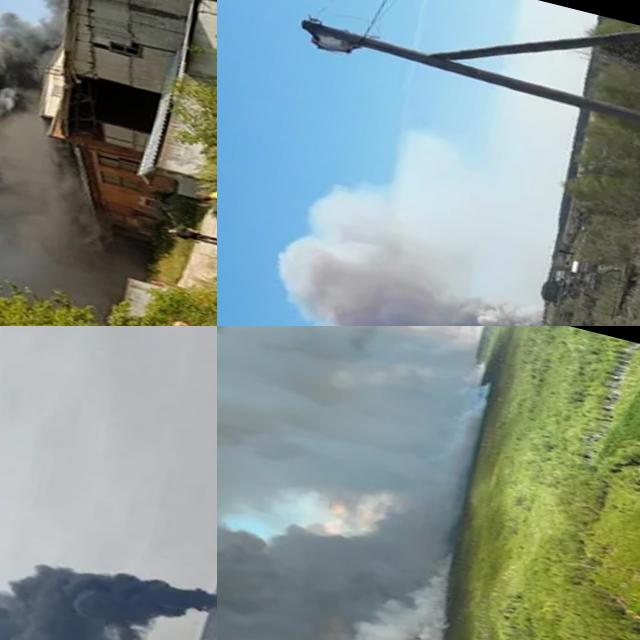smoke: (217, 326, 519, 640), (251, 172, 559, 326), (0, 502, 217, 640), (0, 0, 76, 326)
